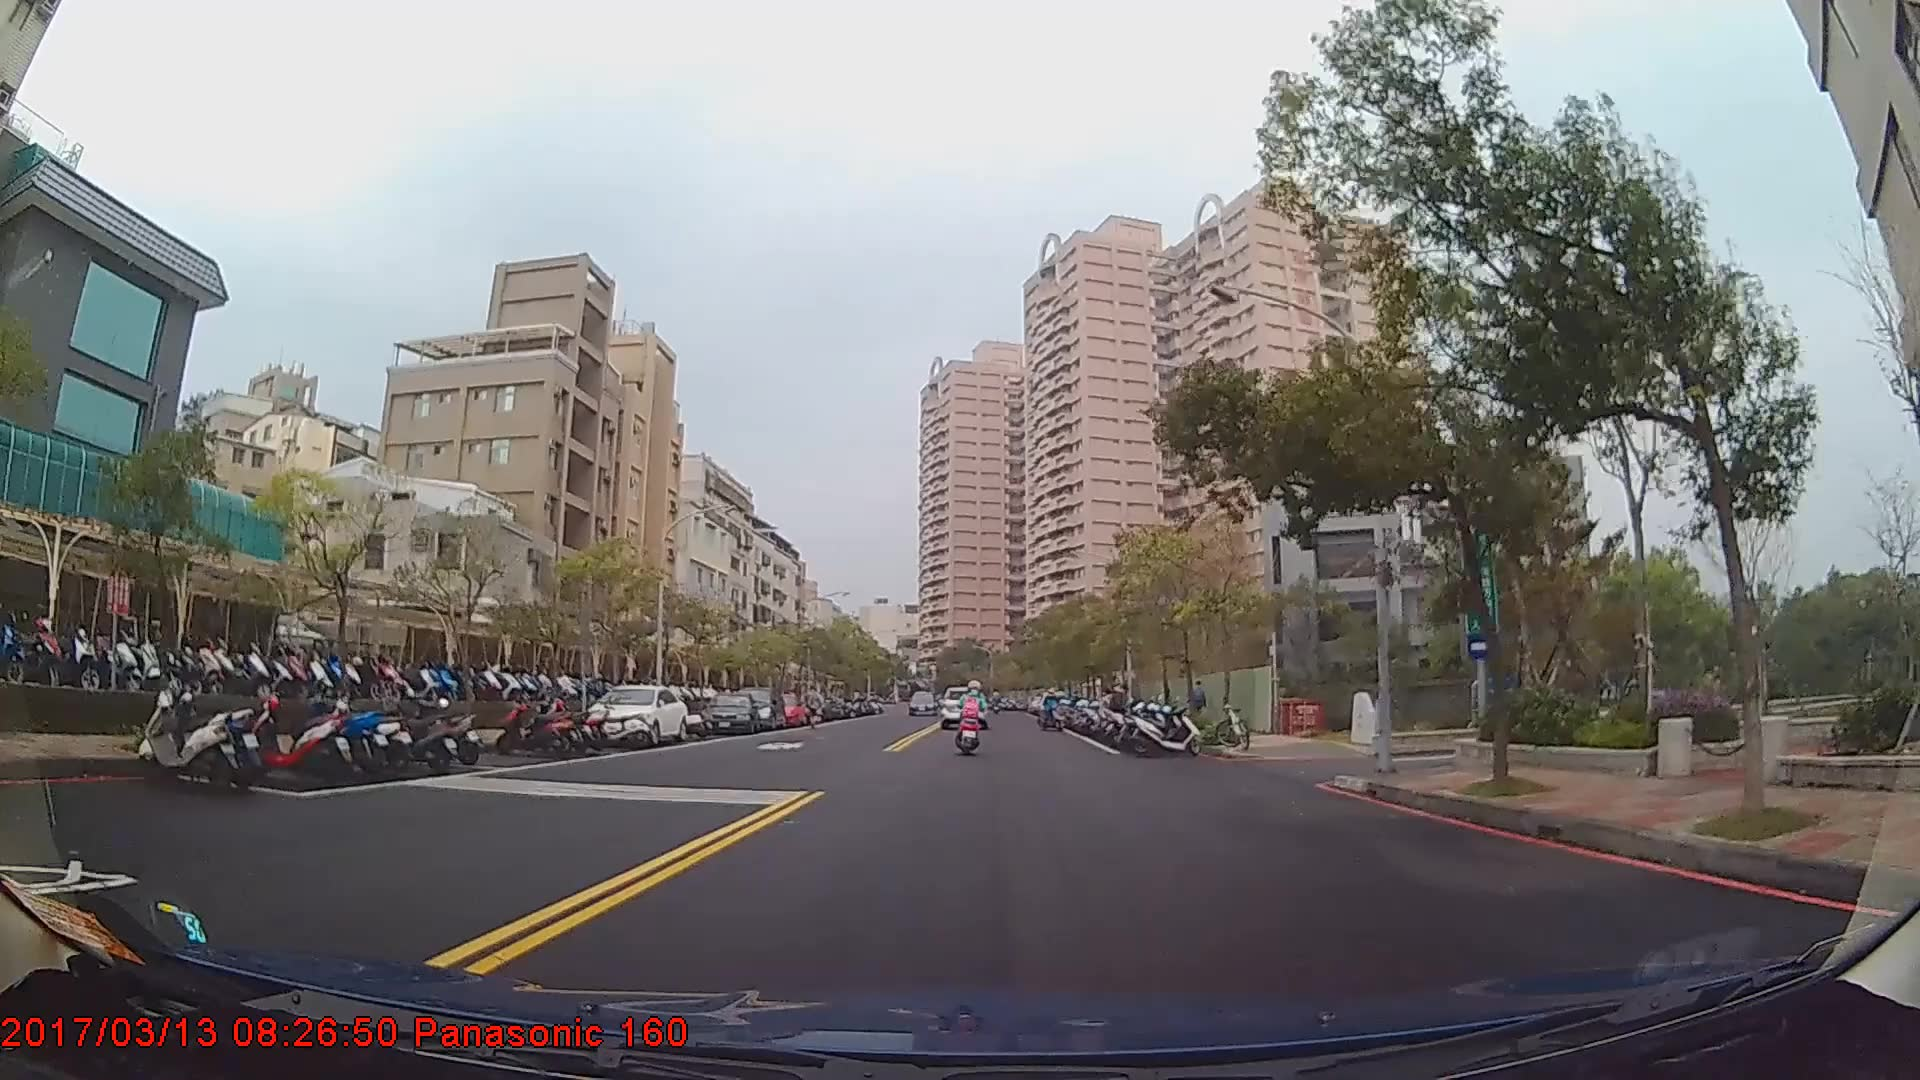pedestrian: (1188, 682, 1209, 736)
rider: (956, 682, 988, 754), (1040, 686, 1065, 729)
vehicle: (580, 683, 687, 745), (731, 683, 787, 730), (700, 692, 760, 735), (941, 685, 989, 731), (908, 689, 935, 714)
